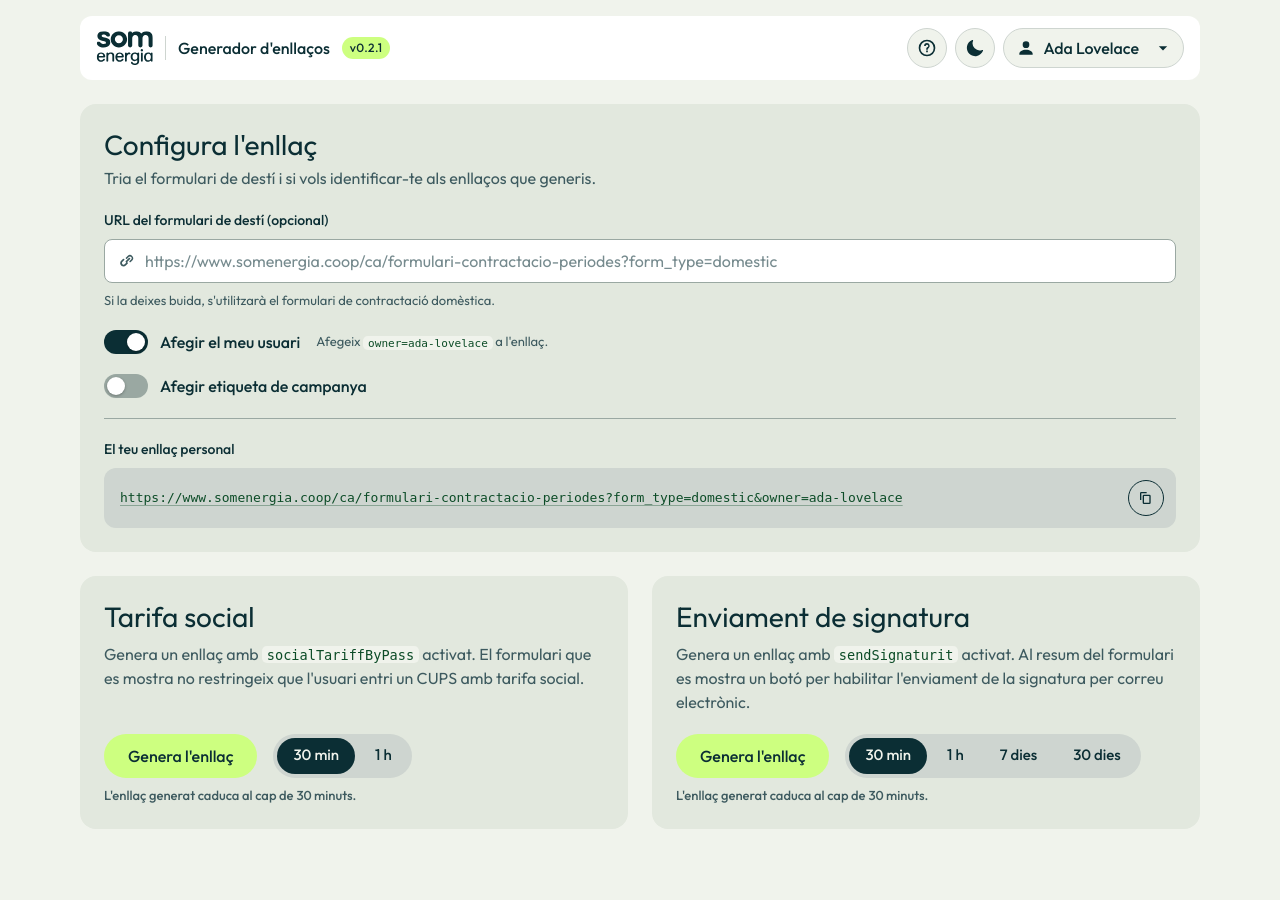
Test case: AdminPage › edits the profile name from the profile menu and rejects invalid values in Catalan
Expected: the text "Ada Lovelace" is shown, [1044,36,1139,60]
Click the button named "Obre el menú de perfil" at {"x": 1163, "y": 48}, box [1147,32,1179,64]
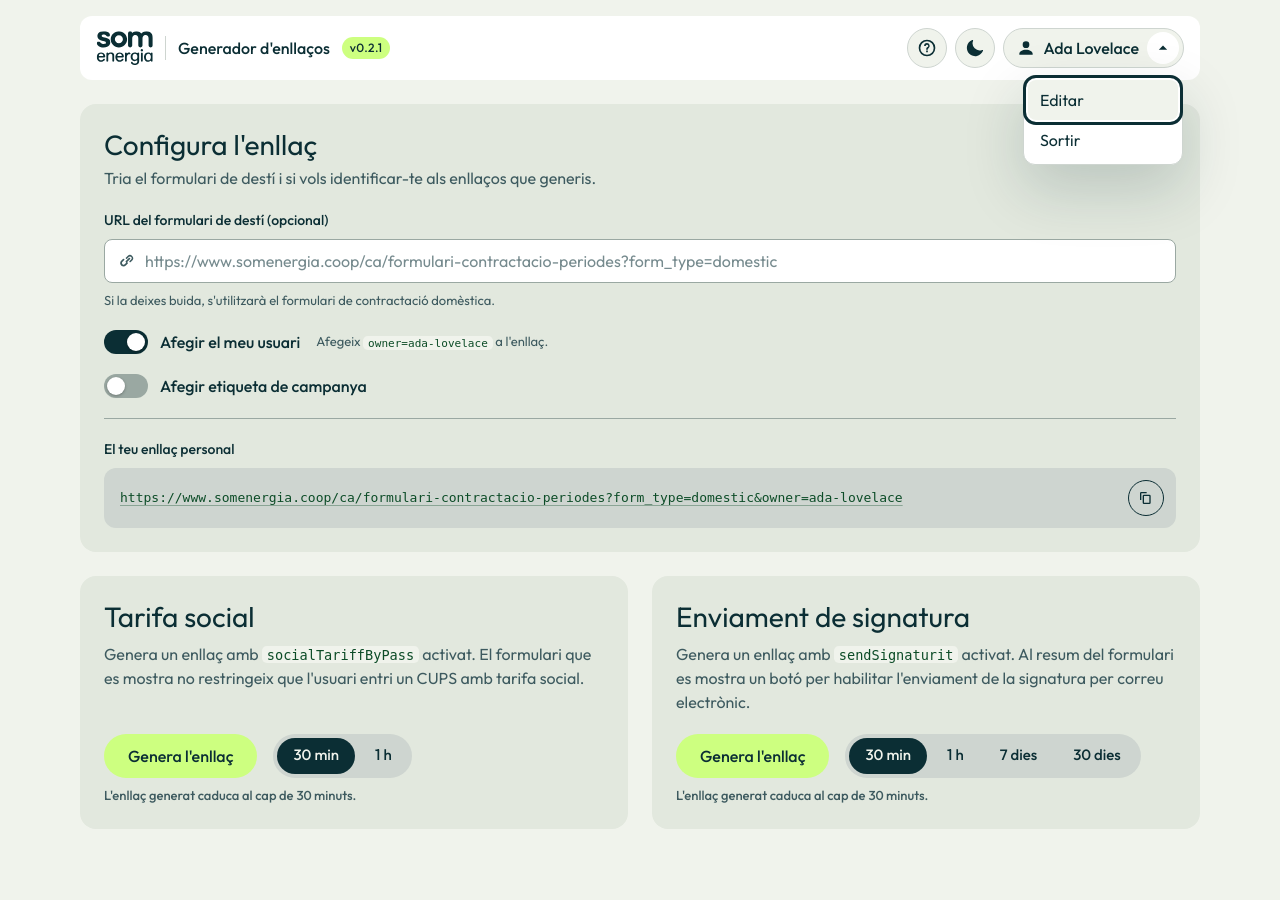
Click the menu item "Editar" at {"x": 1103, "y": 100}, box [1028,80,1178,120]
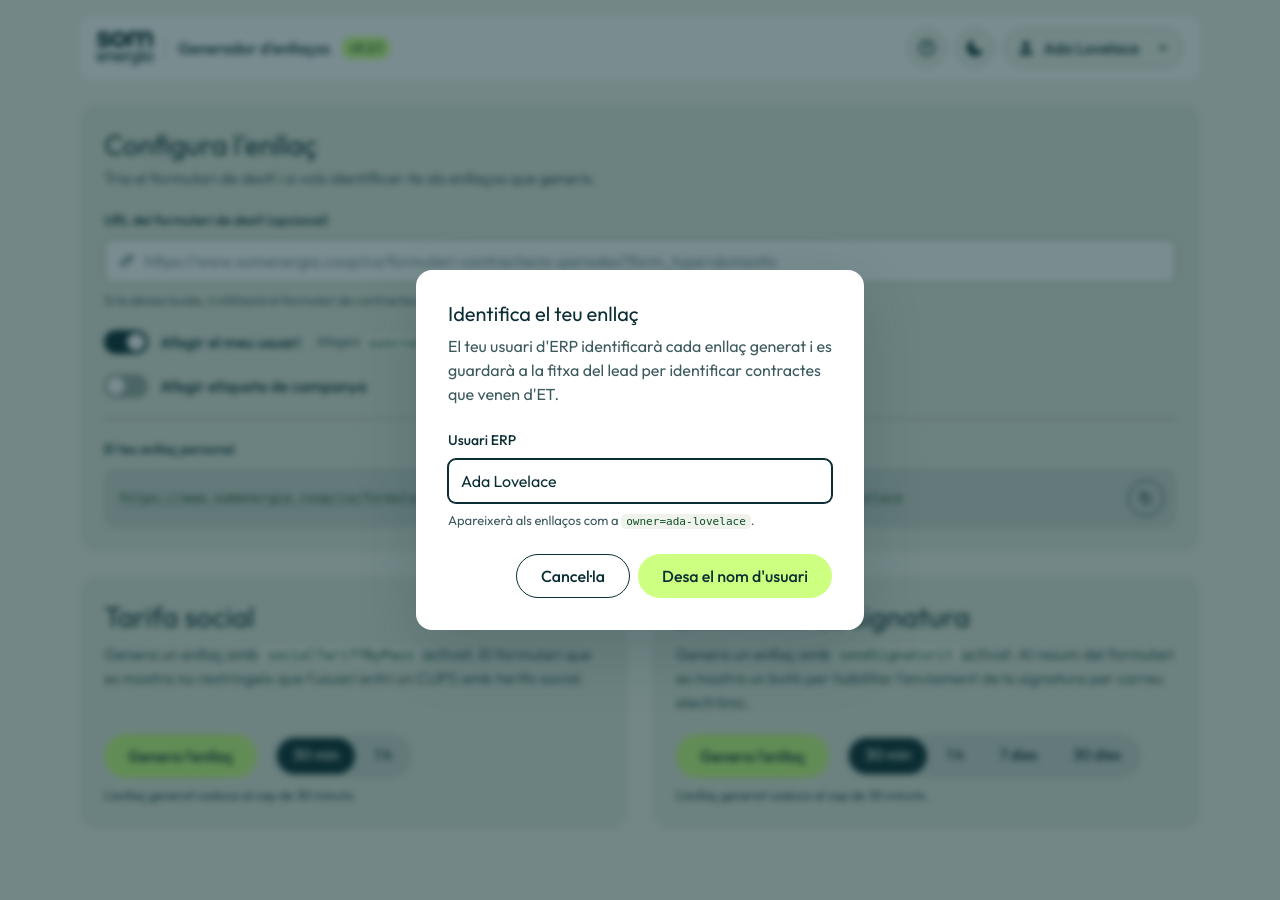
Replace the text in the field labelled "Usuari ERP" with "---" at {"x": 640, "y": 481}, box [449,460,831,502]
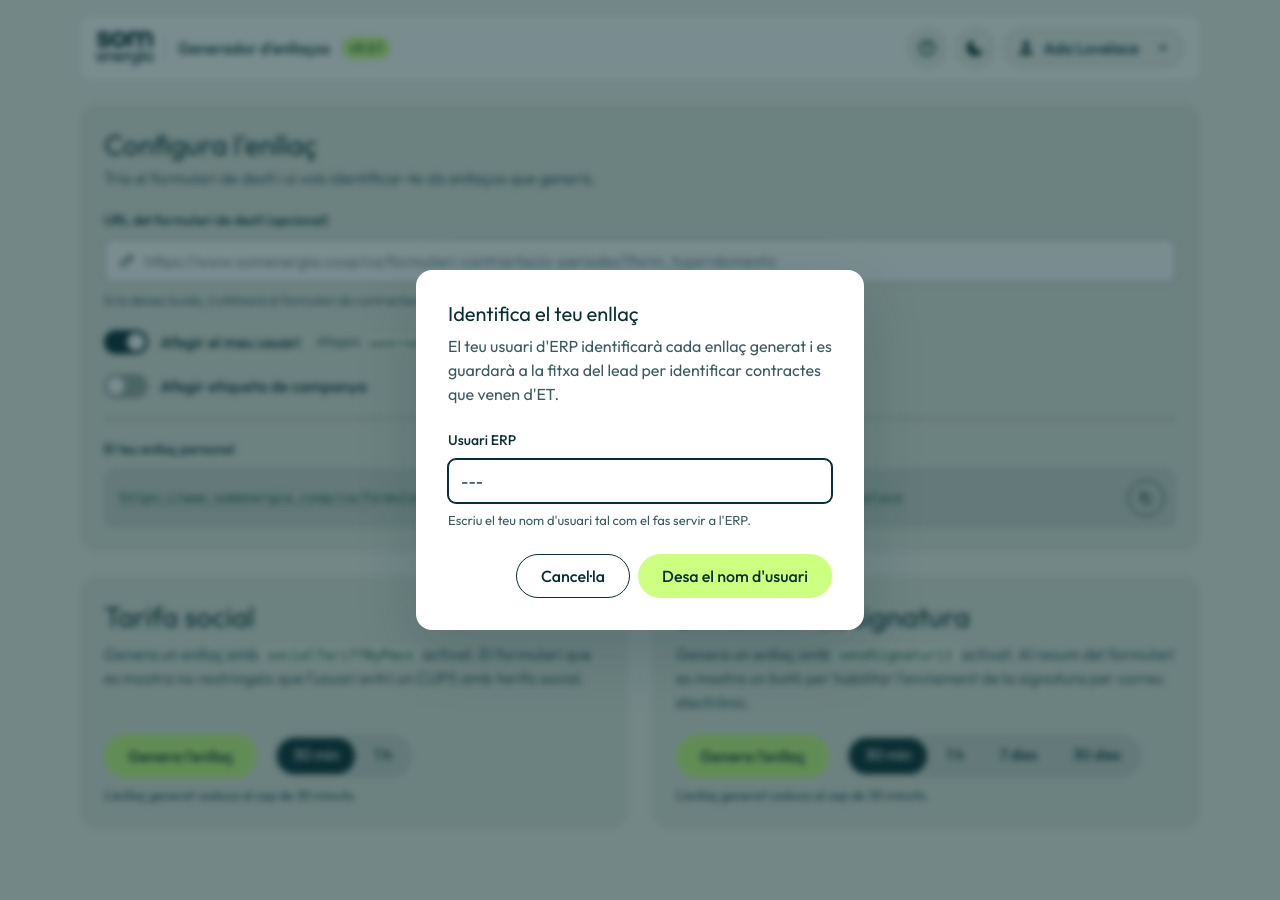
Click the button "Desa el nom d'usuari" at {"x": 735, "y": 576}, box [638,554,832,598]
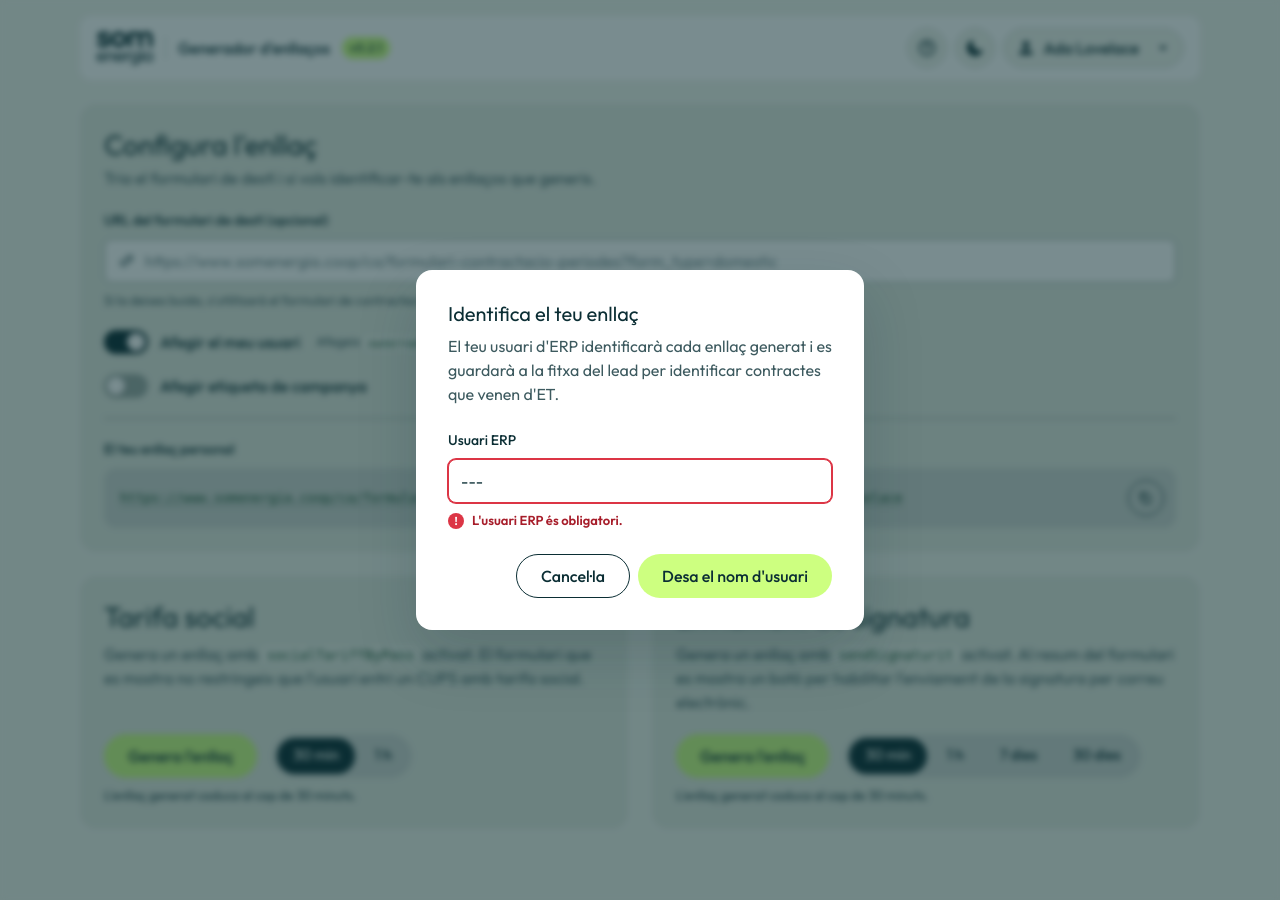
Expected: the text "Ada Lovelace" is shown, [1044,36,1139,60]
Result: the message reads "L'usuari ERP és obligatori." at [472,512,623,528]
